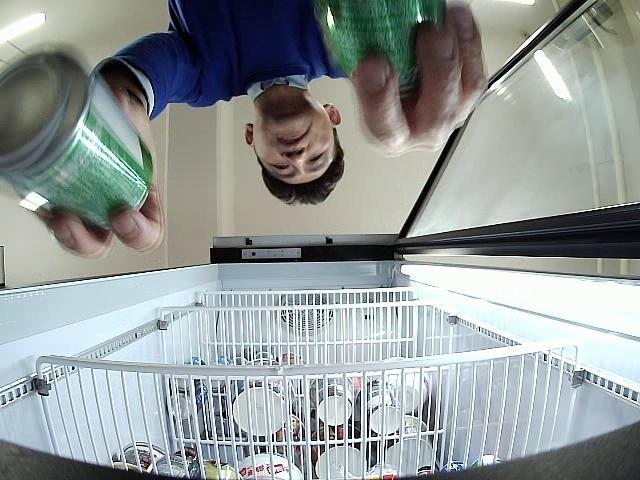12_chilsungCider: (0, 44, 153, 232), (314, 0, 446, 96)
